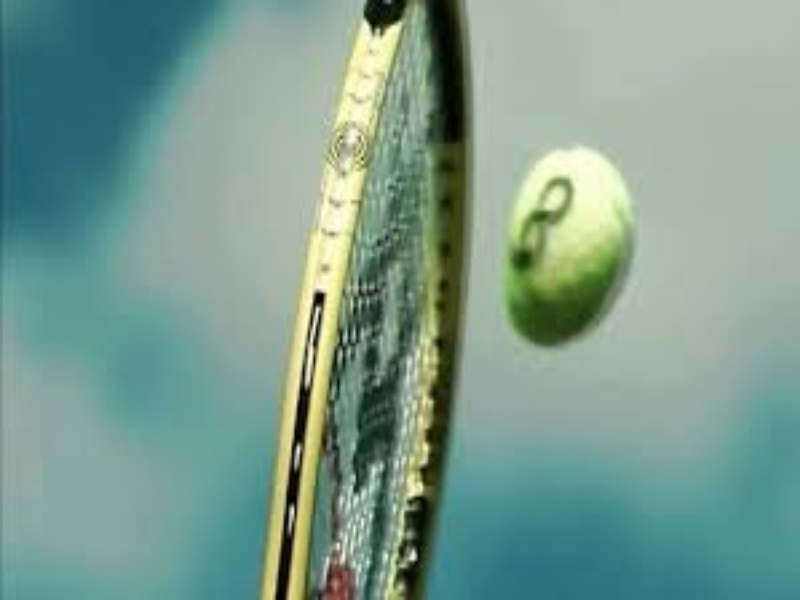tennis ball: (503, 134, 655, 377)
